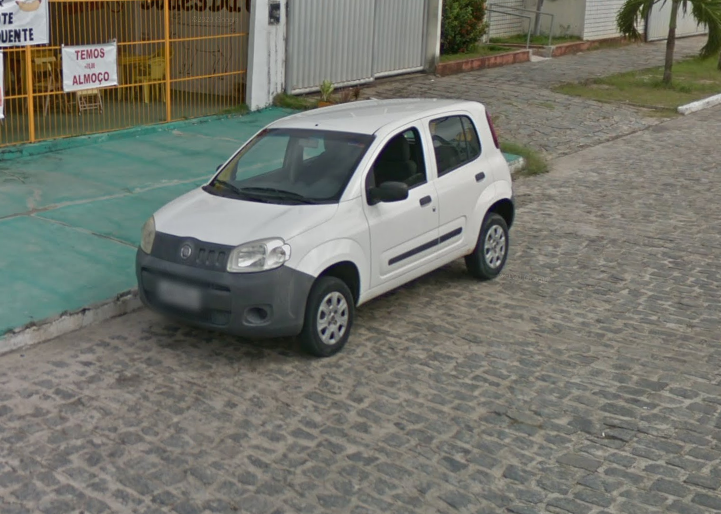car: (135, 94, 516, 358)
